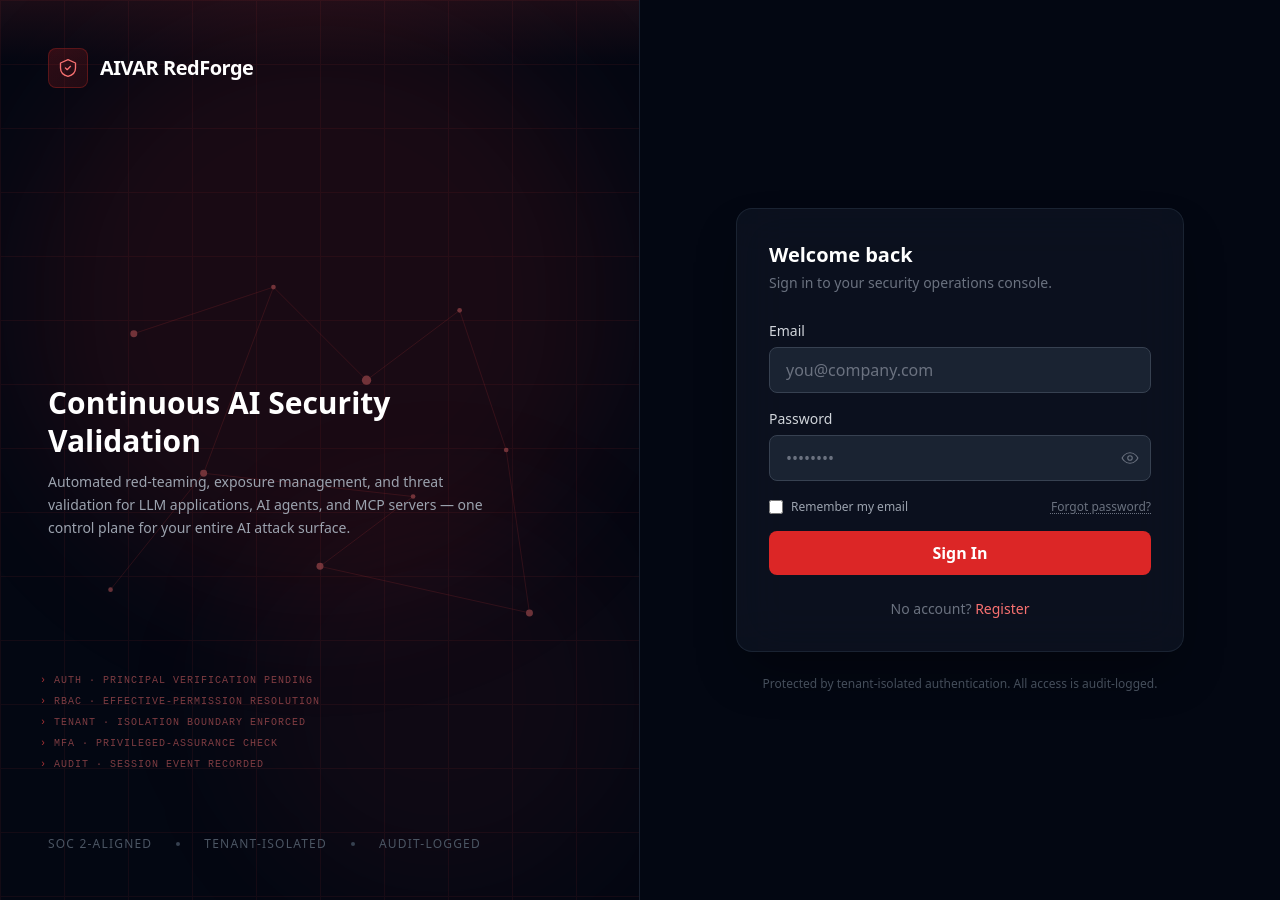
Test: LoginPage › a failed login shows the error and exits the submitting state (button re-enables, no permanent 'Loading...')
Type "user@example.test" into the field with placeholder "you@company.com". click: (960, 370)
box: [769,347,1151,393]
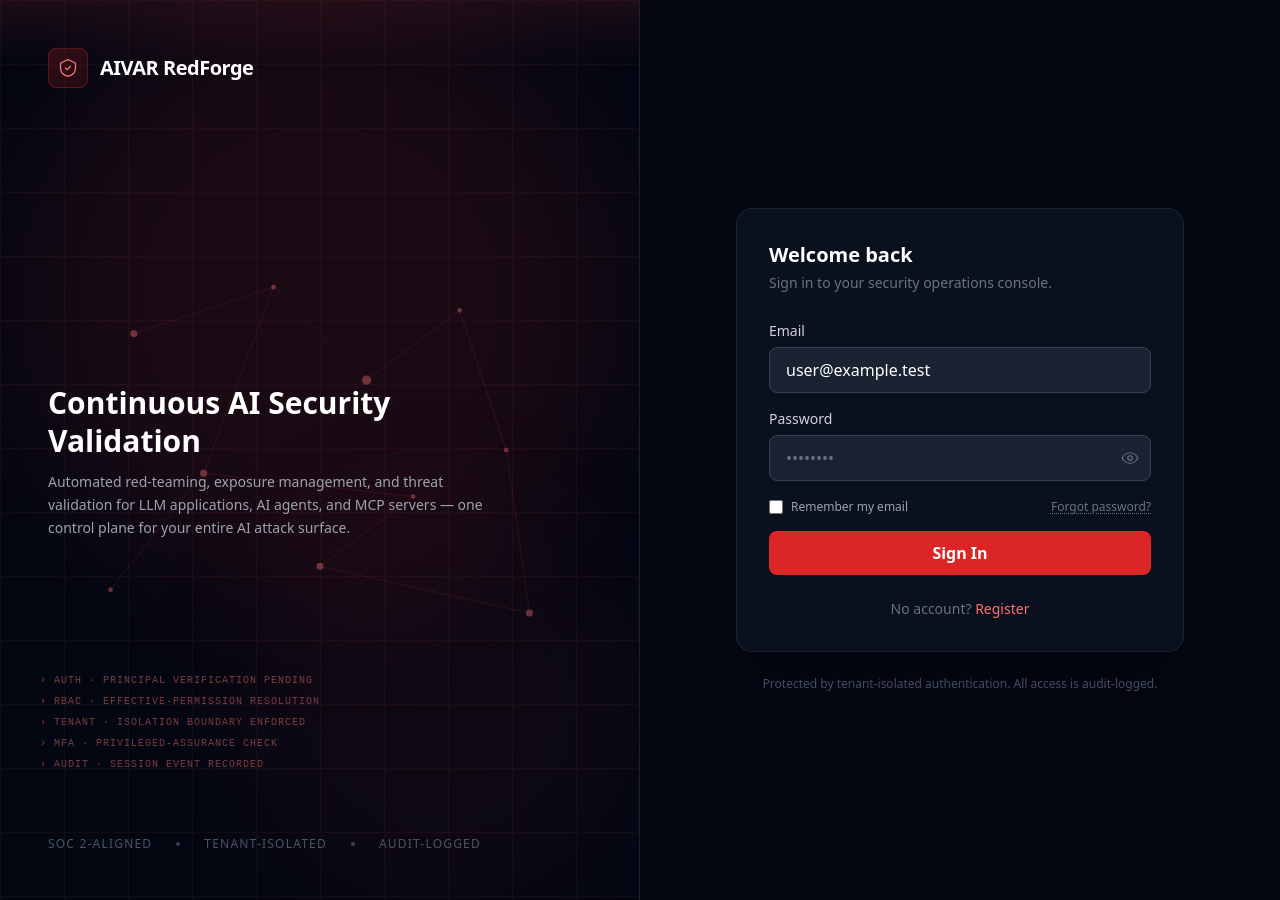
Type "wrong-password" into the password field with placeholder "••••••••". click: (960, 458)
box: [769,435,1151,481]
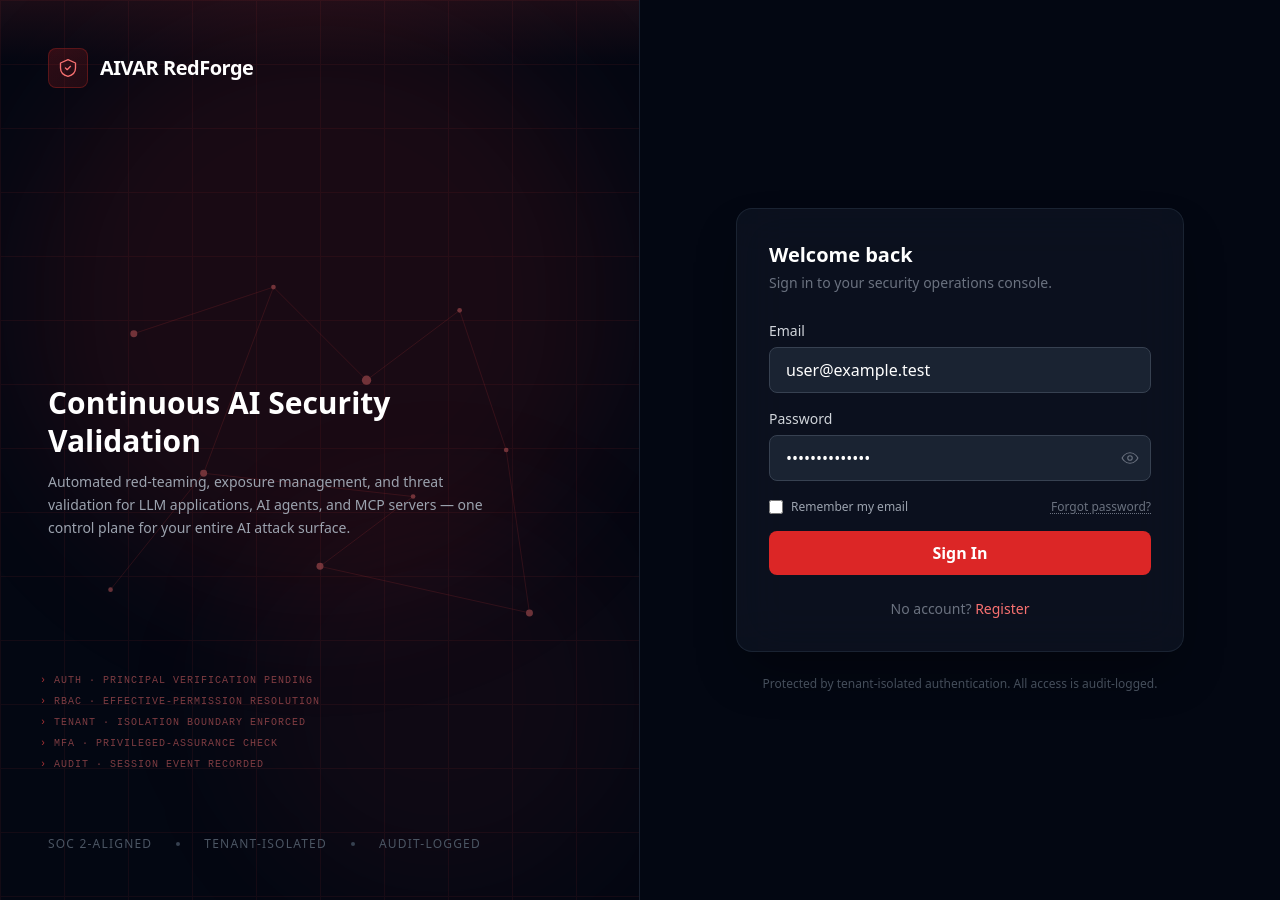
Click the button "Sign In". click: click(960, 553)
box: [769,531,1151,575]
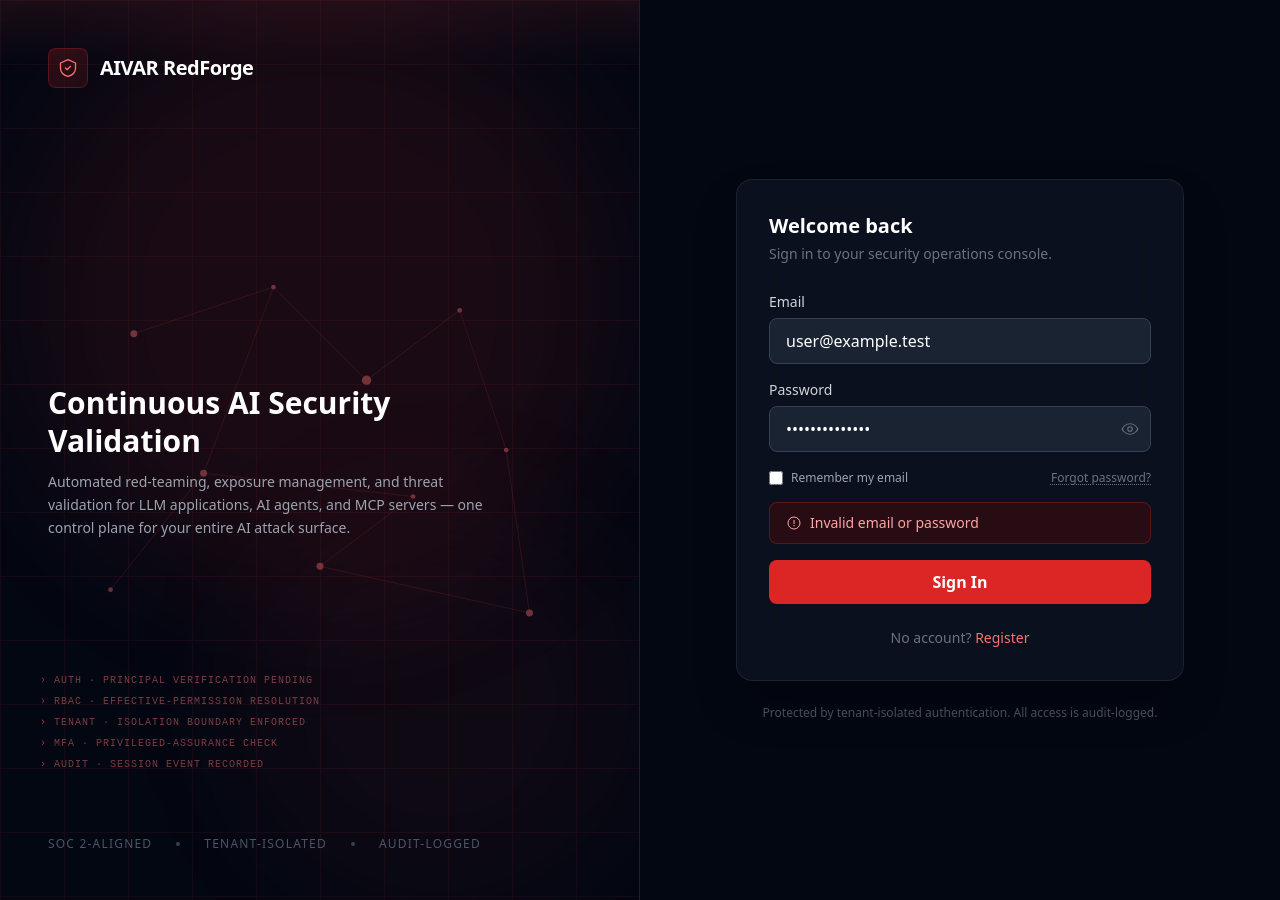
expect the button "Sign In" is enabled: met, box [769,560,1151,604]
expect the text "Invalid email or password" is shown: met, box [810,513,979,533]
